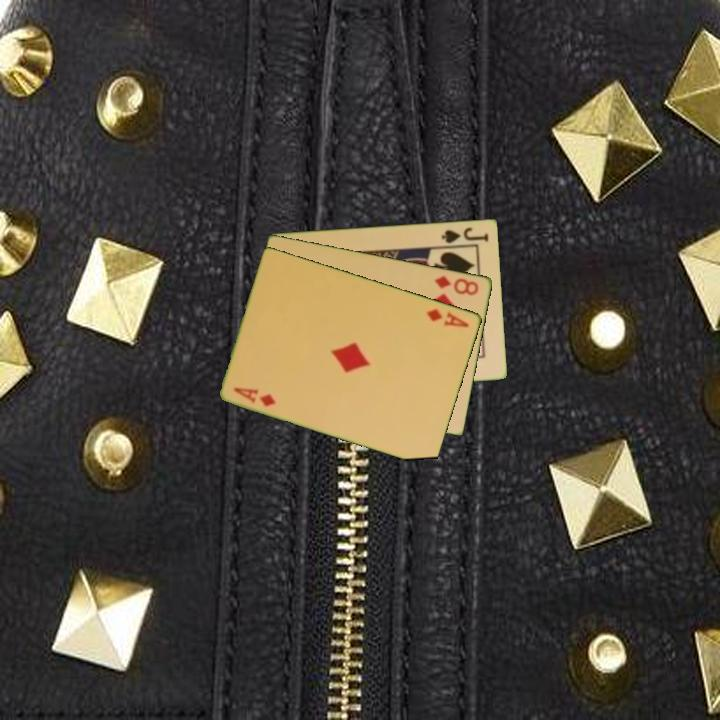8d: (431, 272, 482, 298)
Ad: (230, 383, 279, 409), (423, 305, 472, 330)
Js: (438, 224, 491, 246)
